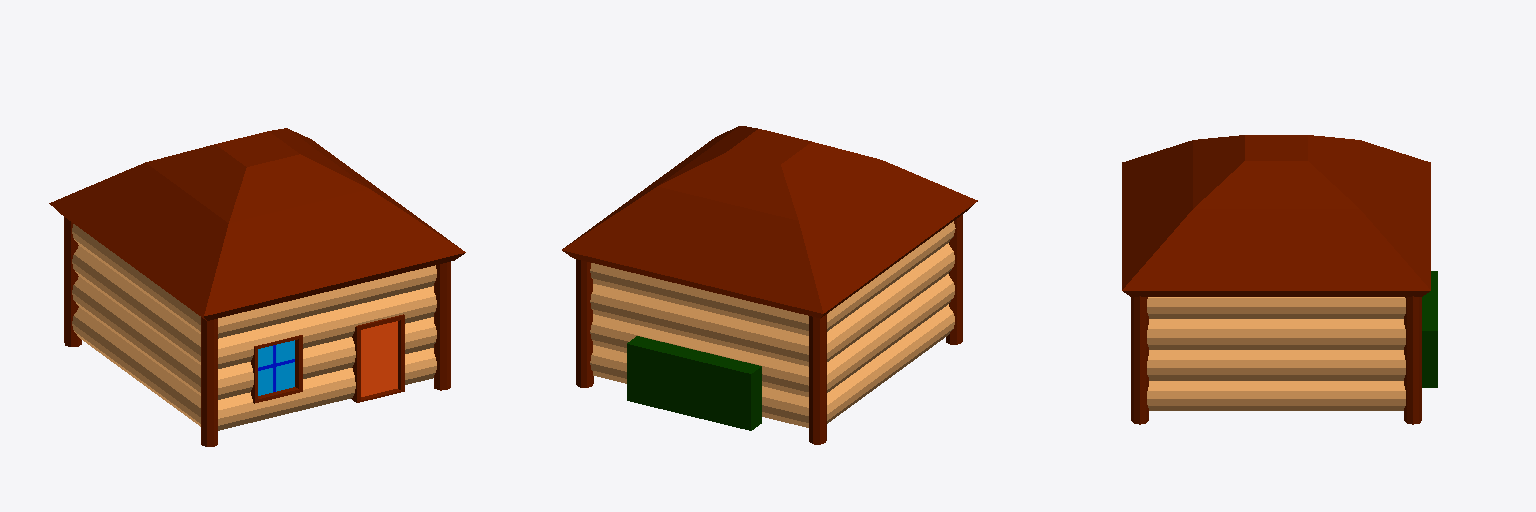
3 views of the same model, side by side, from view 1: azimuth 30°, elevation 25°; view 2: azimuth 150°, elevation 25°; view 3: azimuth 270°, elevation 25° (orthographic).
Visible parts, largest first — view 1: Cube.002; view 2: Cube.002; view 3: Cube.002.
Part boxes in pixels (left/top/right/bottom): Cube.002: left=49, top=128, right=465, bottom=446; Cube.002: left=562, top=126, right=977, bottom=444; Cube.002: left=1122, top=135, right=1437, bottom=424.
Bounding box in the file's own units: 3.1 × 2.44 × 3.24.
Materials: 1 (1 with a texture image).